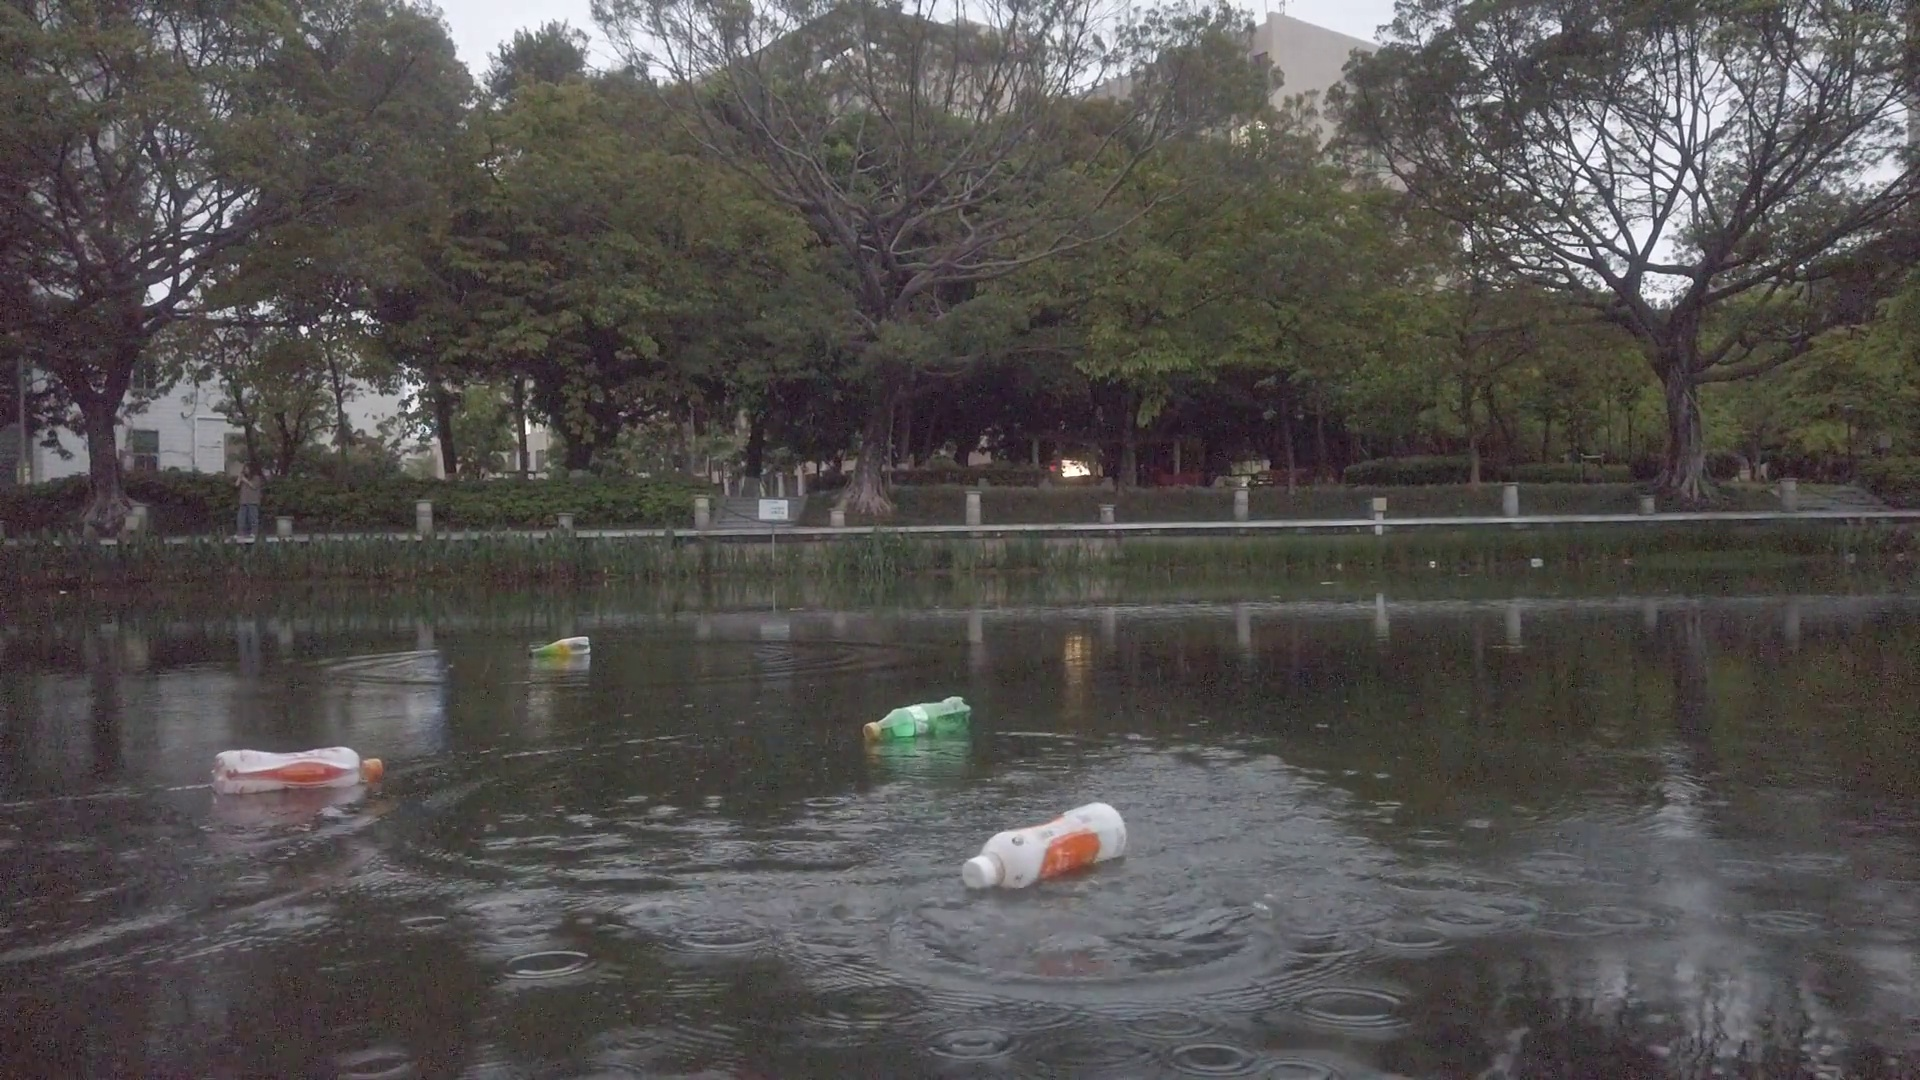bottle: (961, 799, 1130, 887), (210, 741, 386, 796), (862, 700, 978, 744), (527, 636, 593, 655)
carton: (1528, 555, 1545, 572)
